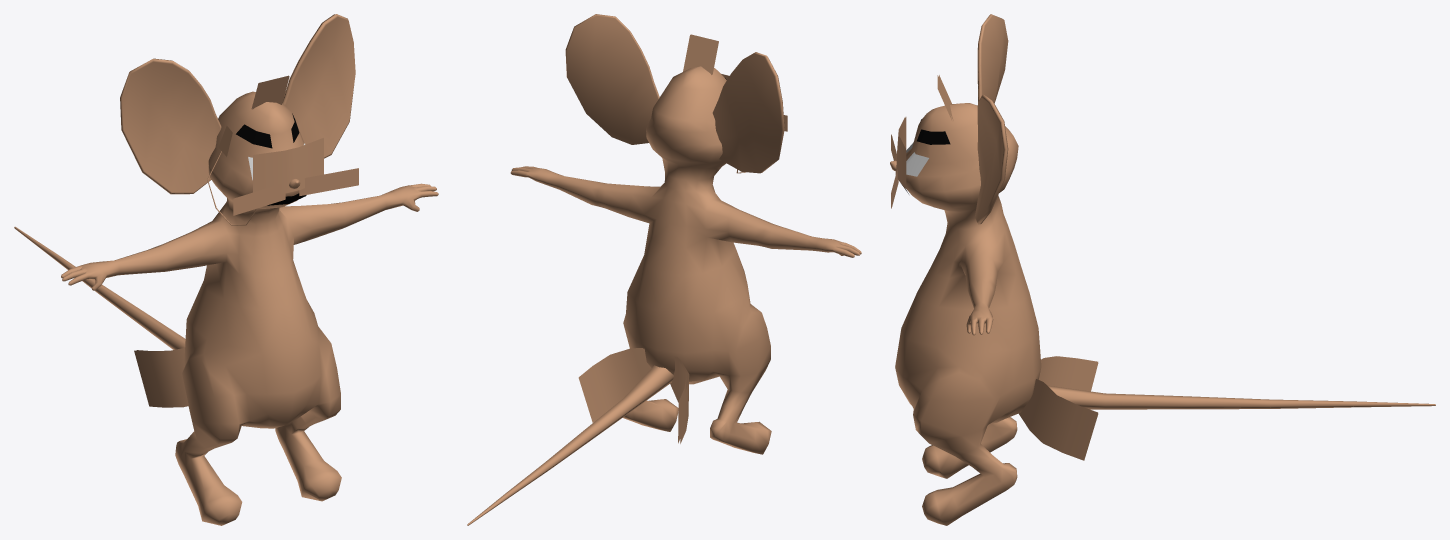
File: MESH_CitrusMouse.fbx
3 views of the same model, side by side, from view 1: azimuth 30°, elevation 25°; view 2: azimuth 150°, elevation 25°; view 3: azimuth 270°, elevation 25° (orthographic). The views are drawn at different scales.
Parts seen in each view (by area): view 1: MESH_LIMEMOUSE, EYEBROW; view 2: MESH_LIMEMOUSE; view 3: MESH_LIMEMOUSE.
Boxes of the visible parts, x1=… form: MESH_LIMEMOUSE: x1=14, y1=14, x2=438, y2=525; EYEBROW: x1=236, y1=113, x2=299, y2=148; MESH_LIMEMOUSE: x1=467, y1=14, x2=861, y2=525; MESH_LIMEMOUSE: x1=890, y1=14, x2=1435, y2=525.
Size of the model in its own units: 86.02 by 100 by 112.
